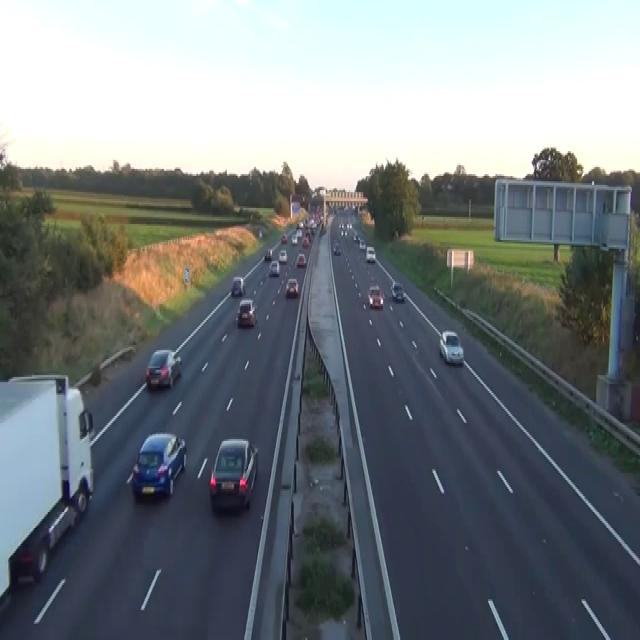Car: (209, 437, 258, 512), (131, 432, 186, 498), (145, 348, 182, 389), (439, 329, 464, 364), (235, 299, 256, 327), (367, 284, 383, 308), (230, 275, 245, 297), (285, 277, 299, 297), (391, 281, 404, 300), (269, 260, 280, 276), (365, 246, 375, 262), (296, 252, 306, 266), (332, 240, 341, 254), (278, 249, 287, 261), (264, 247, 272, 260), (301, 237, 309, 247), (359, 238, 366, 249), (280, 233, 287, 243), (291, 233, 298, 243), (309, 218, 316, 228), (297, 220, 303, 230), (340, 226, 346, 236), (304, 230, 311, 238), (347, 220, 352, 230), (338, 220, 343, 230), (296, 228, 302, 236), (353, 233, 358, 242), (321, 224, 326, 233), (258, 228, 262, 236)
Truck: (0, 372, 94, 606)
